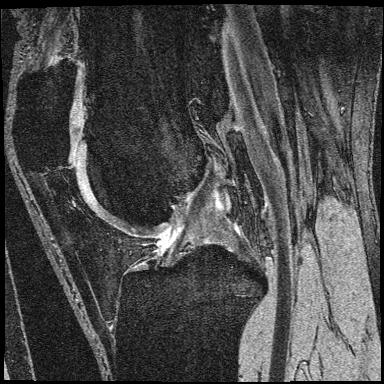SagKneeJointArea: (16, 57, 269, 338)
